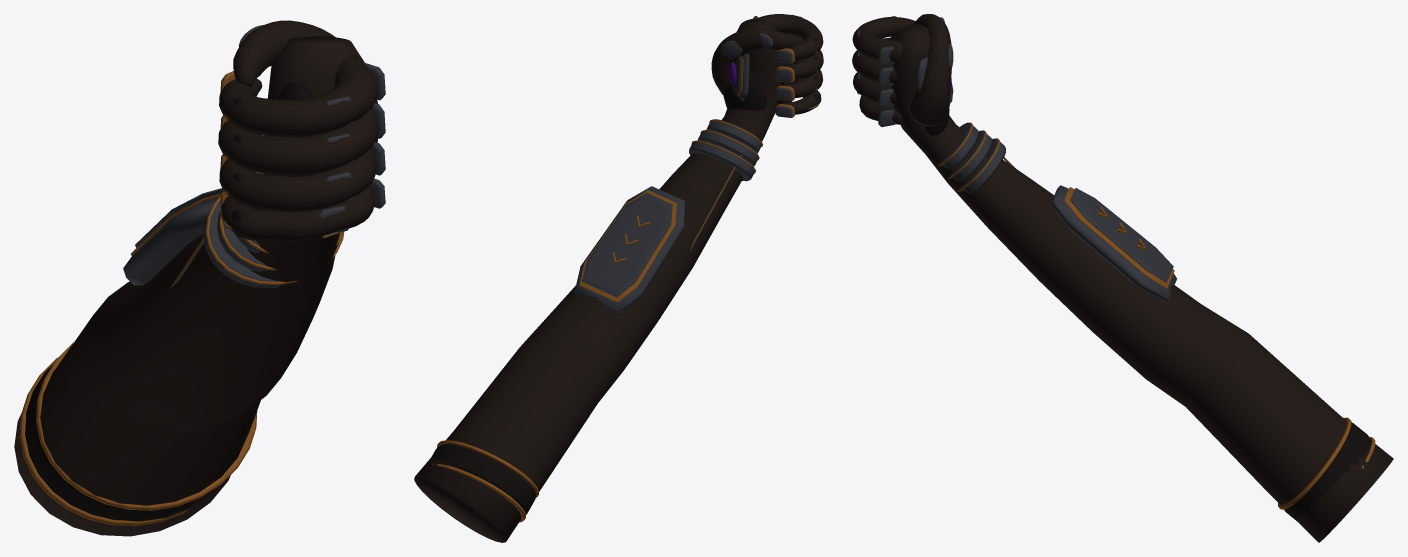
The model's file is Oathbound_RightHand.obj.
3 views of the same model, side by side, from view 1: azimuth 30°, elevation 25°; view 2: azimuth 150°, elevation 25°; view 3: azimuth 270°, elevation 25° (orthographic). The views are drawn at different scales.
Bounding box in the file's own units: 0.305 × 0.5823 × 0.6235.
